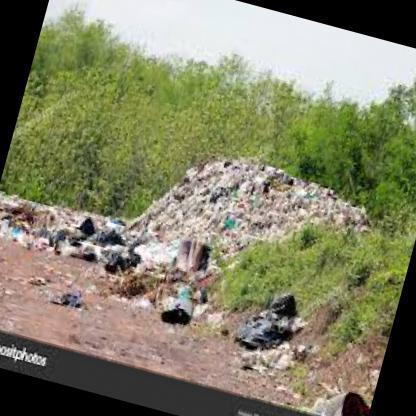Garbage: (219, 162, 361, 231), (158, 162, 239, 276), (58, 212, 148, 276), (240, 290, 304, 362), (0, 193, 76, 251), (158, 284, 199, 328)
